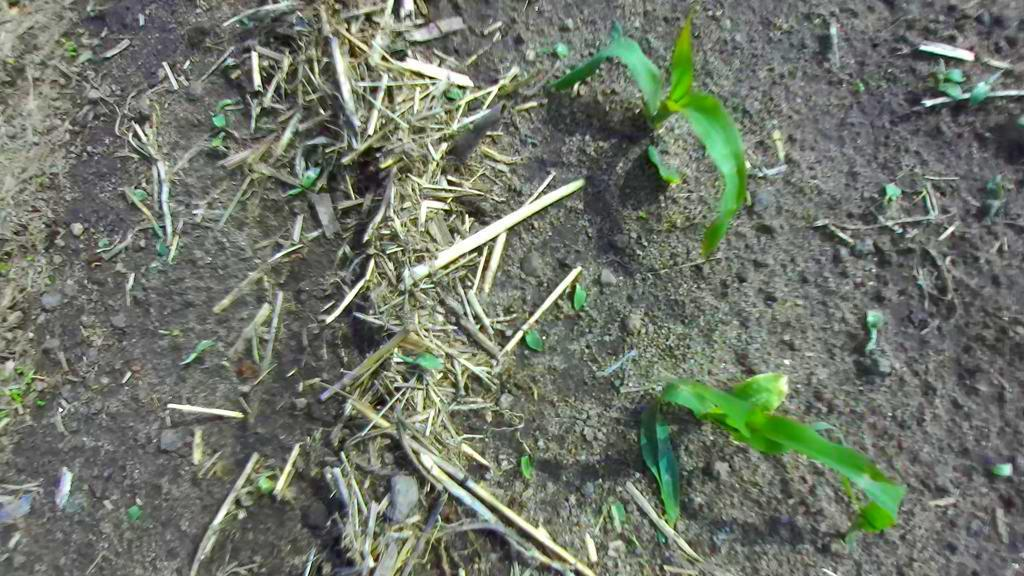BroWeed: (962, 59, 1007, 113), (280, 161, 326, 207), (205, 88, 245, 132), (929, 56, 970, 94), (923, 68, 967, 103), (981, 170, 1011, 220), (611, 497, 639, 549), (176, 334, 216, 369), (396, 350, 443, 372), (864, 308, 884, 357), (535, 39, 571, 66), (216, 47, 251, 72), (521, 322, 546, 355), (149, 219, 170, 257), (604, 495, 623, 535), (250, 472, 277, 499), (70, 45, 100, 66), (0, 381, 27, 403), (127, 181, 150, 204), (989, 461, 1015, 481), (882, 183, 901, 210), (122, 502, 144, 525), (228, 501, 250, 523), (443, 82, 466, 102), (246, 467, 278, 480), (573, 280, 586, 312), (465, 529, 482, 553), (652, 524, 668, 549), (210, 128, 228, 150), (239, 484, 256, 507), (519, 455, 533, 481), (258, 55, 272, 78), (239, 14, 259, 29), (95, 234, 113, 249), (23, 366, 36, 386), (248, 166, 264, 182), (57, 37, 74, 51), (558, 59, 572, 76), (0, 258, 13, 276), (228, 67, 243, 82), (889, 189, 905, 203), (1001, 178, 1016, 191), (856, 77, 866, 92), (23, 251, 35, 262), (34, 397, 46, 408), (66, 43, 79, 53), (0, 408, 9, 418), (1017, 114, 1024, 126), (15, 366, 23, 375), (63, 52, 78, 56), (0, 255, 9, 261)
Maize: (540, 8, 778, 287), (629, 358, 918, 556)
